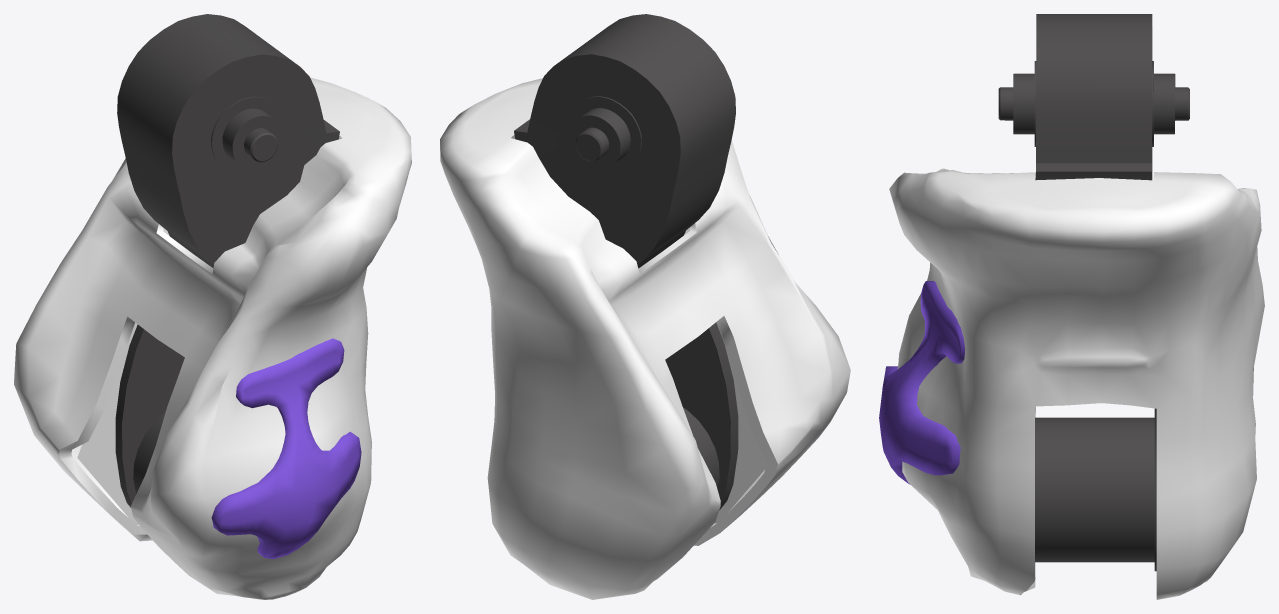
The model's file is RKneePitch.dae.
3 renders of one model, left to right at view 1: azimuth 30°, elevation 25°; view 2: azimuth 150°, elevation 25°; view 3: azimuth 270°, elevation 25°, orthographic. The views are drawn at different scales.
Parts seen in each view (by area): view 1: RKneePitch; view 2: RKneePitch; view 3: RKneePitch.
Boxes of the visible parts, <box> form: RKneePitch: <box>14,14,411,599</box>; RKneePitch: <box>440,14,850,599</box>; RKneePitch: <box>879,14,1264,599</box>.
Size of the model in its own units: 0.8968 by 0.9329 by 1.48.
1 material, 1 textured.
